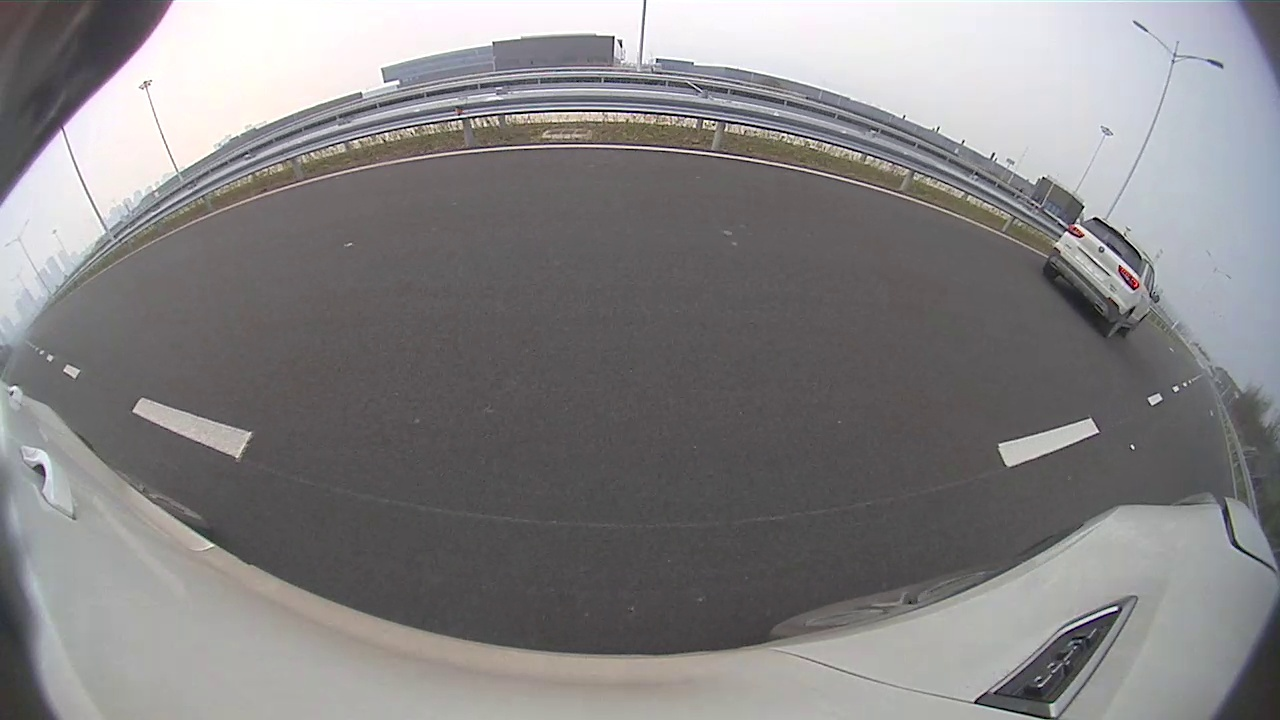car: (1041, 217, 1160, 340)
